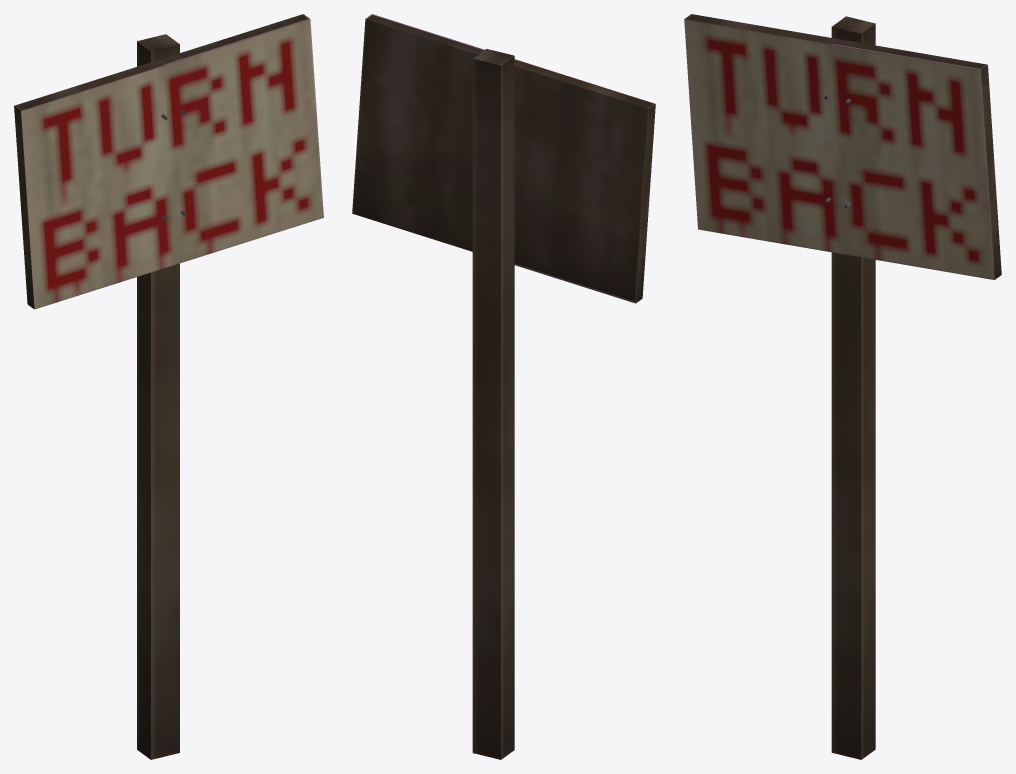
The model's file is sign_turn_back.obj.
3 renders of one model, left to right at view 1: azimuth 30°, elevation 25°; view 2: azimuth 150°, elevation 25°; view 3: azimuth 330°, elevation 25°, orthographic. The views are drawn at different scales.
Parts seen in each view (by area): view 1: sign_turn_back; view 2: sign_turn_back; view 3: sign_turn_back.
Boxes of the visible parts, <box> form: sign_turn_back: <box>14,14,323,759</box>; sign_turn_back: <box>352,14,655,759</box>; sign_turn_back: <box>684,14,1001,759</box>.
Bounding box in the file's own units: 0.6264 × 1.4 × 0.087.
1 material, 1 textured.
